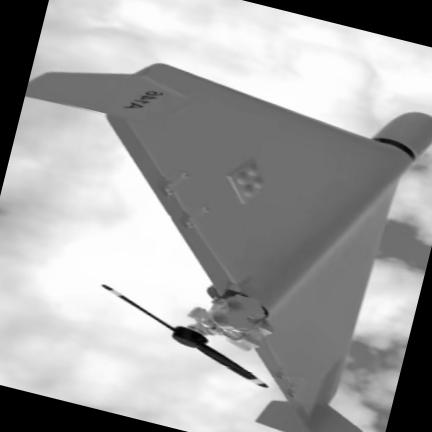Shahed: (26, 63, 431, 431)
